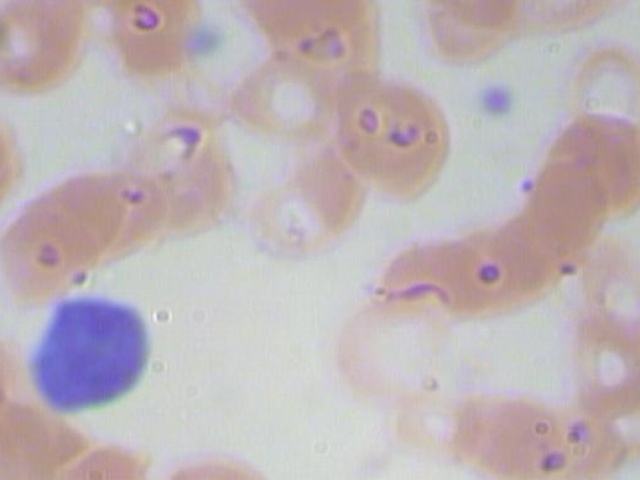Platelets: (184, 14, 228, 61), (473, 77, 517, 123)
RBC: (324, 71, 460, 213), (360, 211, 478, 331), (244, 155, 362, 274), (29, 160, 147, 269), (88, 146, 205, 254), (537, 105, 640, 221), (515, 164, 615, 280), (475, 198, 575, 314), (445, 208, 545, 324), (0, 203, 102, 312), (226, 51, 342, 145), (0, 0, 106, 102), (448, 396, 571, 480), (96, 0, 213, 87), (372, 385, 498, 461), (565, 297, 640, 411), (0, 381, 86, 480), (403, 0, 520, 70), (572, 31, 640, 145), (575, 240, 640, 354), (0, 0, 52, 85), (0, 89, 17, 230), (0, 320, 13, 428), (0, 381, 13, 480)
WBC: (28, 288, 176, 430)
